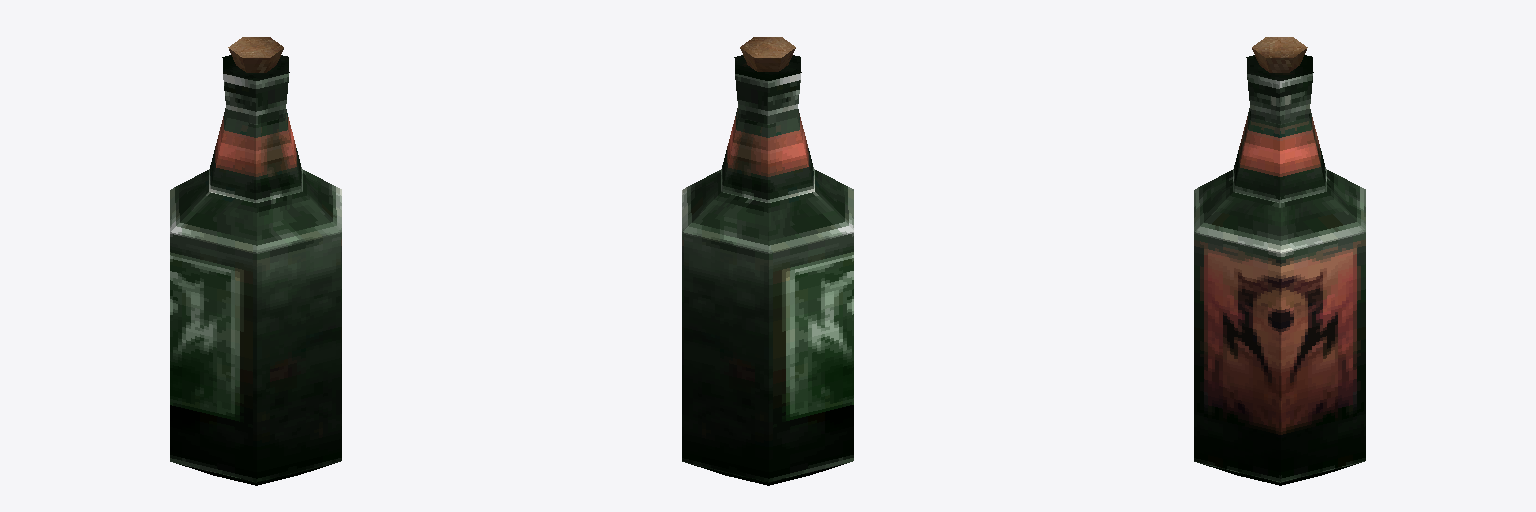
3 renders of one model, left to right at view 1: azimuth 30°, elevation 25°; view 2: azimuth 150°, elevation 25°; view 3: azimuth 270°, elevation 25°, orthographic.
Parts seen in each view (by area): view 1: OrcBottle01; view 2: OrcBottle01; view 3: OrcBottle01.
Boxes of the visible parts, <box> form: OrcBottle01: <box>170,37,341,485</box>; OrcBottle01: <box>682,37,853,485</box>; OrcBottle01: <box>1194,37,1365,485</box>.
Bounding box in the file's own units: 0.4857 × 1.12 × 0.4228.
1 materials, 1 textured.